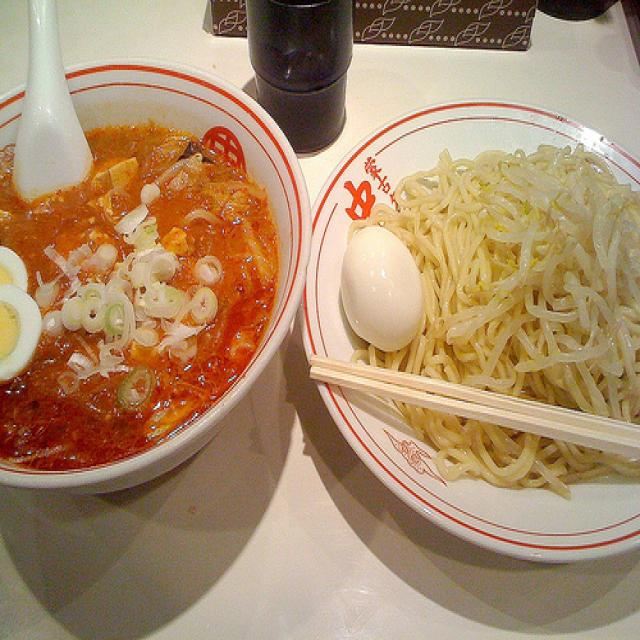面条主食: (0, 121, 636, 512)
